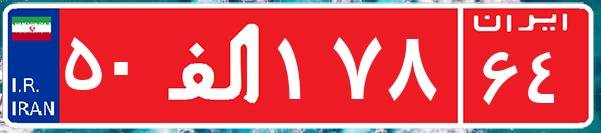0: (110, 28, 158, 105)
1: (273, 28, 330, 110)
4: (525, 38, 570, 115)
5: (57, 26, 110, 107)
6: (475, 38, 525, 113)
7: (330, 28, 385, 110)
8: (385, 28, 445, 110)
الف: (158, 15, 273, 115)
